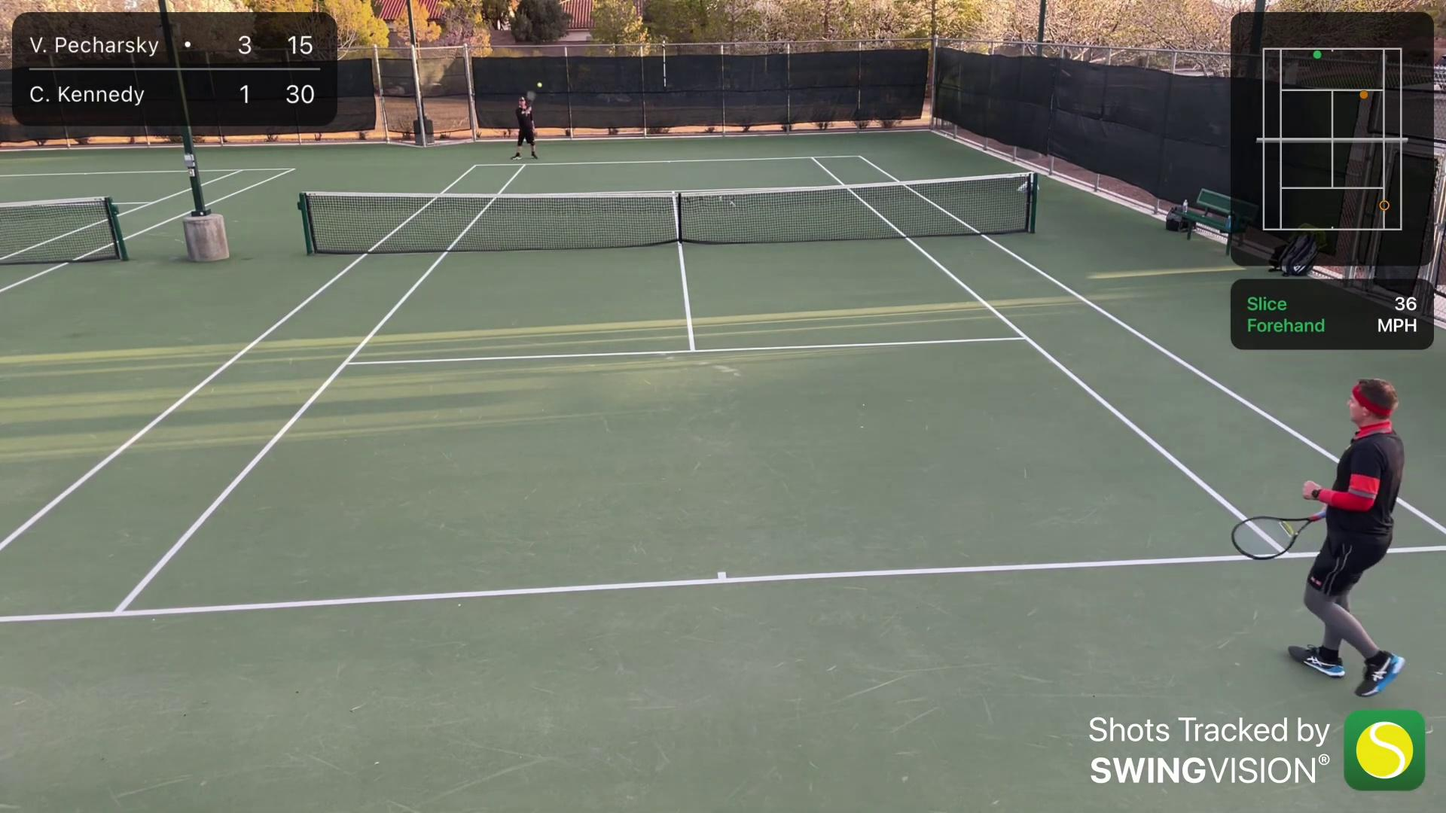ball: (537, 82, 543, 89)
